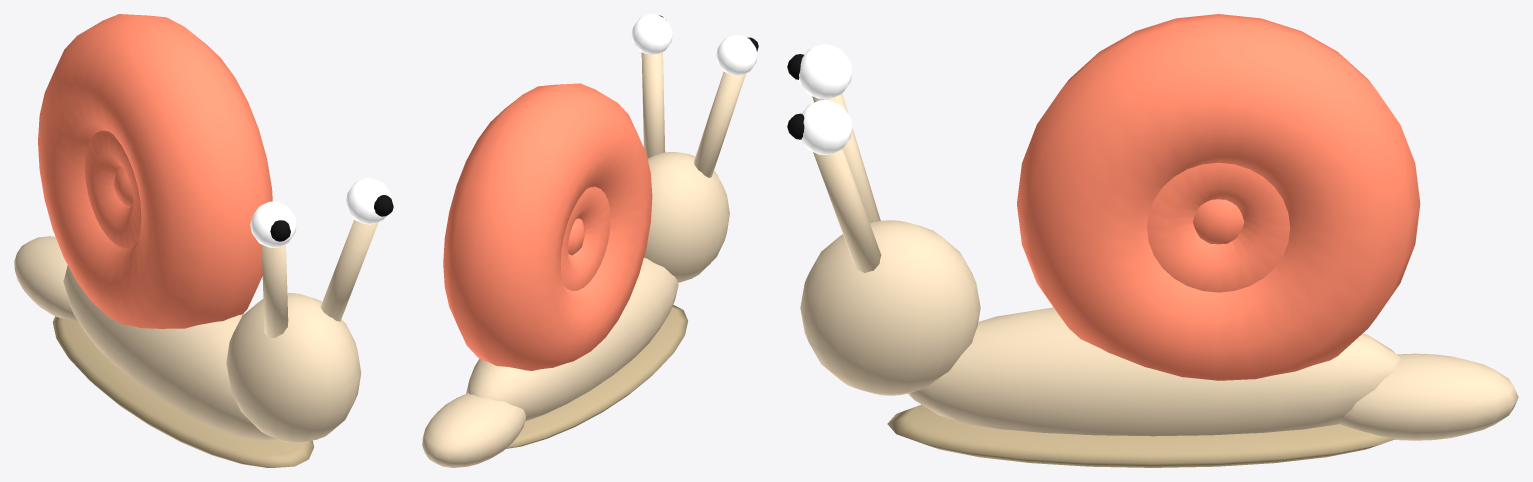
The model's file is caracol.glb.
3 views of the same model, side by side, from view 1: azimuth 30°, elevation 25°; view 2: azimuth 150°, elevation 25°; view 3: azimuth 270°, elevation 25° (orthographic). The views are drawn at different scales.
Visible parts, largest first — view 1: caracol_concha_1, caracol_cabeza, caracol_cuerpo, caracol_pie, caracol_concha_2, caracol_cola, caracol_tallo_1, caracol_tallo_0, caracol_ojo_1, caracol_ojo_0, caracol_concha_centro; view 2: caracol_concha_1, caracol_cuerpo, caracol_cabeza, caracol_cola, caracol_pie, caracol_concha_2, caracol_tallo_0, caracol_tallo_1, caracol_ojo_0, caracol_ojo_1, caracol_concha_centro; view 3: caracol_concha_1, caracol_cuerpo, caracol_cabeza, caracol_pie, caracol_concha_2, caracol_cola, caracol_tallo_1, caracol_ojo_0, caracol_ojo_1, caracol_concha_centro, caracol_tallo_0.
Boxes of the visible parts, left/top/right/bottom form: caracol_concha_1: left=38, top=14, right=272, bottom=328; caracol_cabeza: left=226, top=293, right=361, bottom=442; caracol_cuerpo: left=63, top=265, right=277, bottom=440; caracol_pie: left=52, top=316, right=313, bottom=467; caracol_concha_2: left=85, top=130, right=141, bottom=247; caracol_cola: left=14, top=236, right=78, bottom=321; caracol_tallo_1: left=320, top=219, right=378, bottom=321; caracol_tallo_0: left=261, top=244, right=288, bottom=337; caracol_ojo_1: left=345, top=178, right=392, bottom=224; caracol_ojo_0: left=250, top=201, right=296, bottom=247; caracol_concha_centro: left=113, top=166, right=133, bottom=207; caracol_concha_1: left=443, top=83, right=652, bottom=370; caracol_cuerpo: left=466, top=257, right=678, bottom=421; caracol_cabeza: left=644, top=152, right=729, bottom=282; caracol_cola: left=422, top=393, right=526, bottom=467; caracol_pie: left=506, top=305, right=687, bottom=448; caracol_concha_2: left=560, top=187, right=610, bottom=290; caracol_tallo_0: left=694, top=71, right=745, bottom=177; caracol_tallo_1: left=641, top=52, right=665, bottom=158; caracol_ojo_0: left=716, top=34, right=757, bottom=75; caracol_ojo_1: left=631, top=14, right=672, bottom=54; caracol_concha_centro: left=567, top=218, right=584, bottom=255; caracol_concha_1: left=1017, top=14, right=1420, bottom=380; caracol_cuerpo: left=908, top=307, right=1401, bottom=436; caracol_cabeza: left=800, top=220, right=980, bottom=395; caracol_pie: left=887, top=404, right=1395, bottom=467; caracol_concha_2: left=1147, top=162, right=1290, bottom=292; caracol_cola: left=1339, top=353, right=1518, bottom=440; caracol_tallo_1: left=813, top=149, right=881, bottom=272; caracol_ojo_0: left=799, top=44, right=852, bottom=98; caracol_ojo_1: left=801, top=99, right=852, bottom=154; caracol_concha_centro: left=1193, top=199, right=1244, bottom=244; caracol_tallo_0: left=812, top=94, right=880, bottom=223.
Bounding box in the file's own units: 0.114 × 0.2842 × 0.446.
